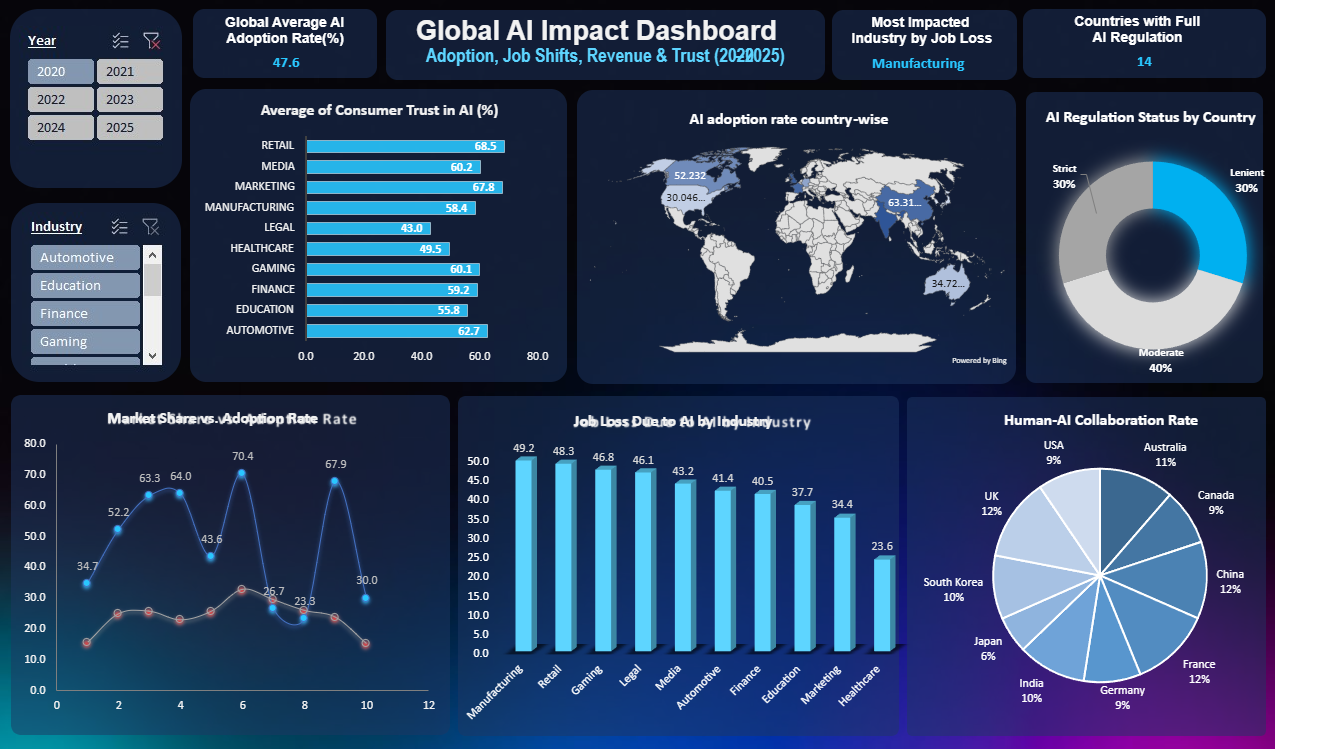

This screenshot's page, from the dashboard's own definition file:
{"tool":"powerbi","page":{"name":"Page 1","canvas":[1280,720],"ordinal":0},"visuals":[{"type":"filledMap","fields":{"Category":["Sheet1.Country"]},"box":[16.6,418.4,587.2,290],"z":0},{"type":"columnChart","fields":{"Category":["Sheet1.Industry"],"Y":["Sum(Sheet1.Job Loss Due to AI (%))"]},"box":[616.9,418.4,336.4,290],"z":1000},{"type":"pieChart","fields":{"Category":["Sheet1.Country"],"Y":["Sum(Sheet1.Human-AI Collaboration Rate (%))"]},"box":[966,418.2,300.8,289.8],"z":2000},{"type":"clusteredBarChart","fields":{"Category":["Sheet1.Industry"],"Y":["Sum(Sheet1.Consumer Trust in AI (%))"]},"box":[16.3,101.2,297.7,304.7],"z":3000},{"type":"donutChart","fields":{"Category":["Sheet1.Regulation Status"],"Y":["CountNonNull(Sheet1.Country)"]},"box":[326.7,181.4,298.8,223.3],"z":4000},{"type":"scatterChart","fields":{"Category":["Sheet1.Country"],"X":["Sum(Sheet1.AI Adoption Rate (%))"],"Y":["Sum(Sheet1.Market Share of AI Companies (%))"]},"box":[639.5,101.2,351.2,302.3],"z":5000},{"type":"gauge","fields":{"Y":["Sum(Sheet1.Revenue Increase Due to AI (%))"]},"box":[1001.2,201.2,266.3,202.3],"z":6000},{"type":"card","fields":{"Values":["Avg(Sheet1.AI Adoption Rate (%))"]},"box":[1001.2,101.2,266.3,91.9],"z":7000},{"type":"card","fields":{"Values":["Avg(Sheet1.Market Share of AI Companies (%))"]},"box":[326.7,101.2,298.8,74.4],"z":8000},{"type":"slicer","fields":{"Values":["Sheet1.Industry"]},"box":[1000.9,14.3,266.3,76.1],"z":9000},{"type":"textbox","box":[183.1,14.3,807.1,76.1],"z":10000},{"type":"slicer","fields":{"Values":["Sheet1.Year"]},"box":[16.6,14.3,156.9,76.1],"z":11000}]}

Visuals, with their boxes in screenshot pixels (x1, y1, x2, y2), scaled from the page's 1280x720 canvas onto the 1323x749 screenshot:
filledMap - Sheet1.Country: 17 435 624 737
columnChart - Sheet1.Industry x Sum(Sheet1.Job Loss Due to AI (%)): 638 435 985 737
pieChart - Sheet1.Country x Sum(Sheet1.Human-AI Collaboration Rate (%)): 998 435 1309 737
clusteredBarChart - Sheet1.Industry x Sum(Sheet1.Consumer Trust in AI (%)): 17 105 325 422
donutChart - Sheet1.Regulation Status x CountNonNull(Sheet1.Country): 338 189 647 421
scatterChart - Sheet1.Country x Sum(Sheet1.AI Adoption Rate (%)): 661 105 1024 420
gauge - Sum(Sheet1.Revenue Increase Due to AI (%)): 1035 209 1310 420
card - Avg(Sheet1.AI Adoption Rate (%)): 1035 105 1310 201
card - Avg(Sheet1.Market Share of AI Companies (%)): 338 105 647 183
slicer - Sheet1.Industry: 1035 15 1310 94
textbox: 189 15 1023 94
slicer - Sheet1.Year: 17 15 179 94
